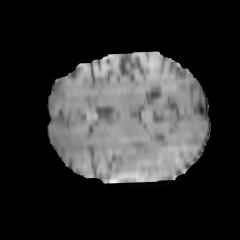glioma: (53, 128, 178, 183)
